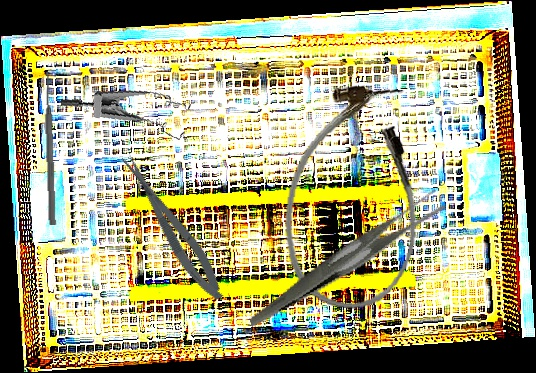Cannula: (274, 77, 435, 316)
Dressing Forceps: (229, 188, 463, 327)
Micro Scissor: (116, 147, 230, 307)
Pusher: (42, 70, 58, 226)
Speculum: (59, 73, 198, 162)
